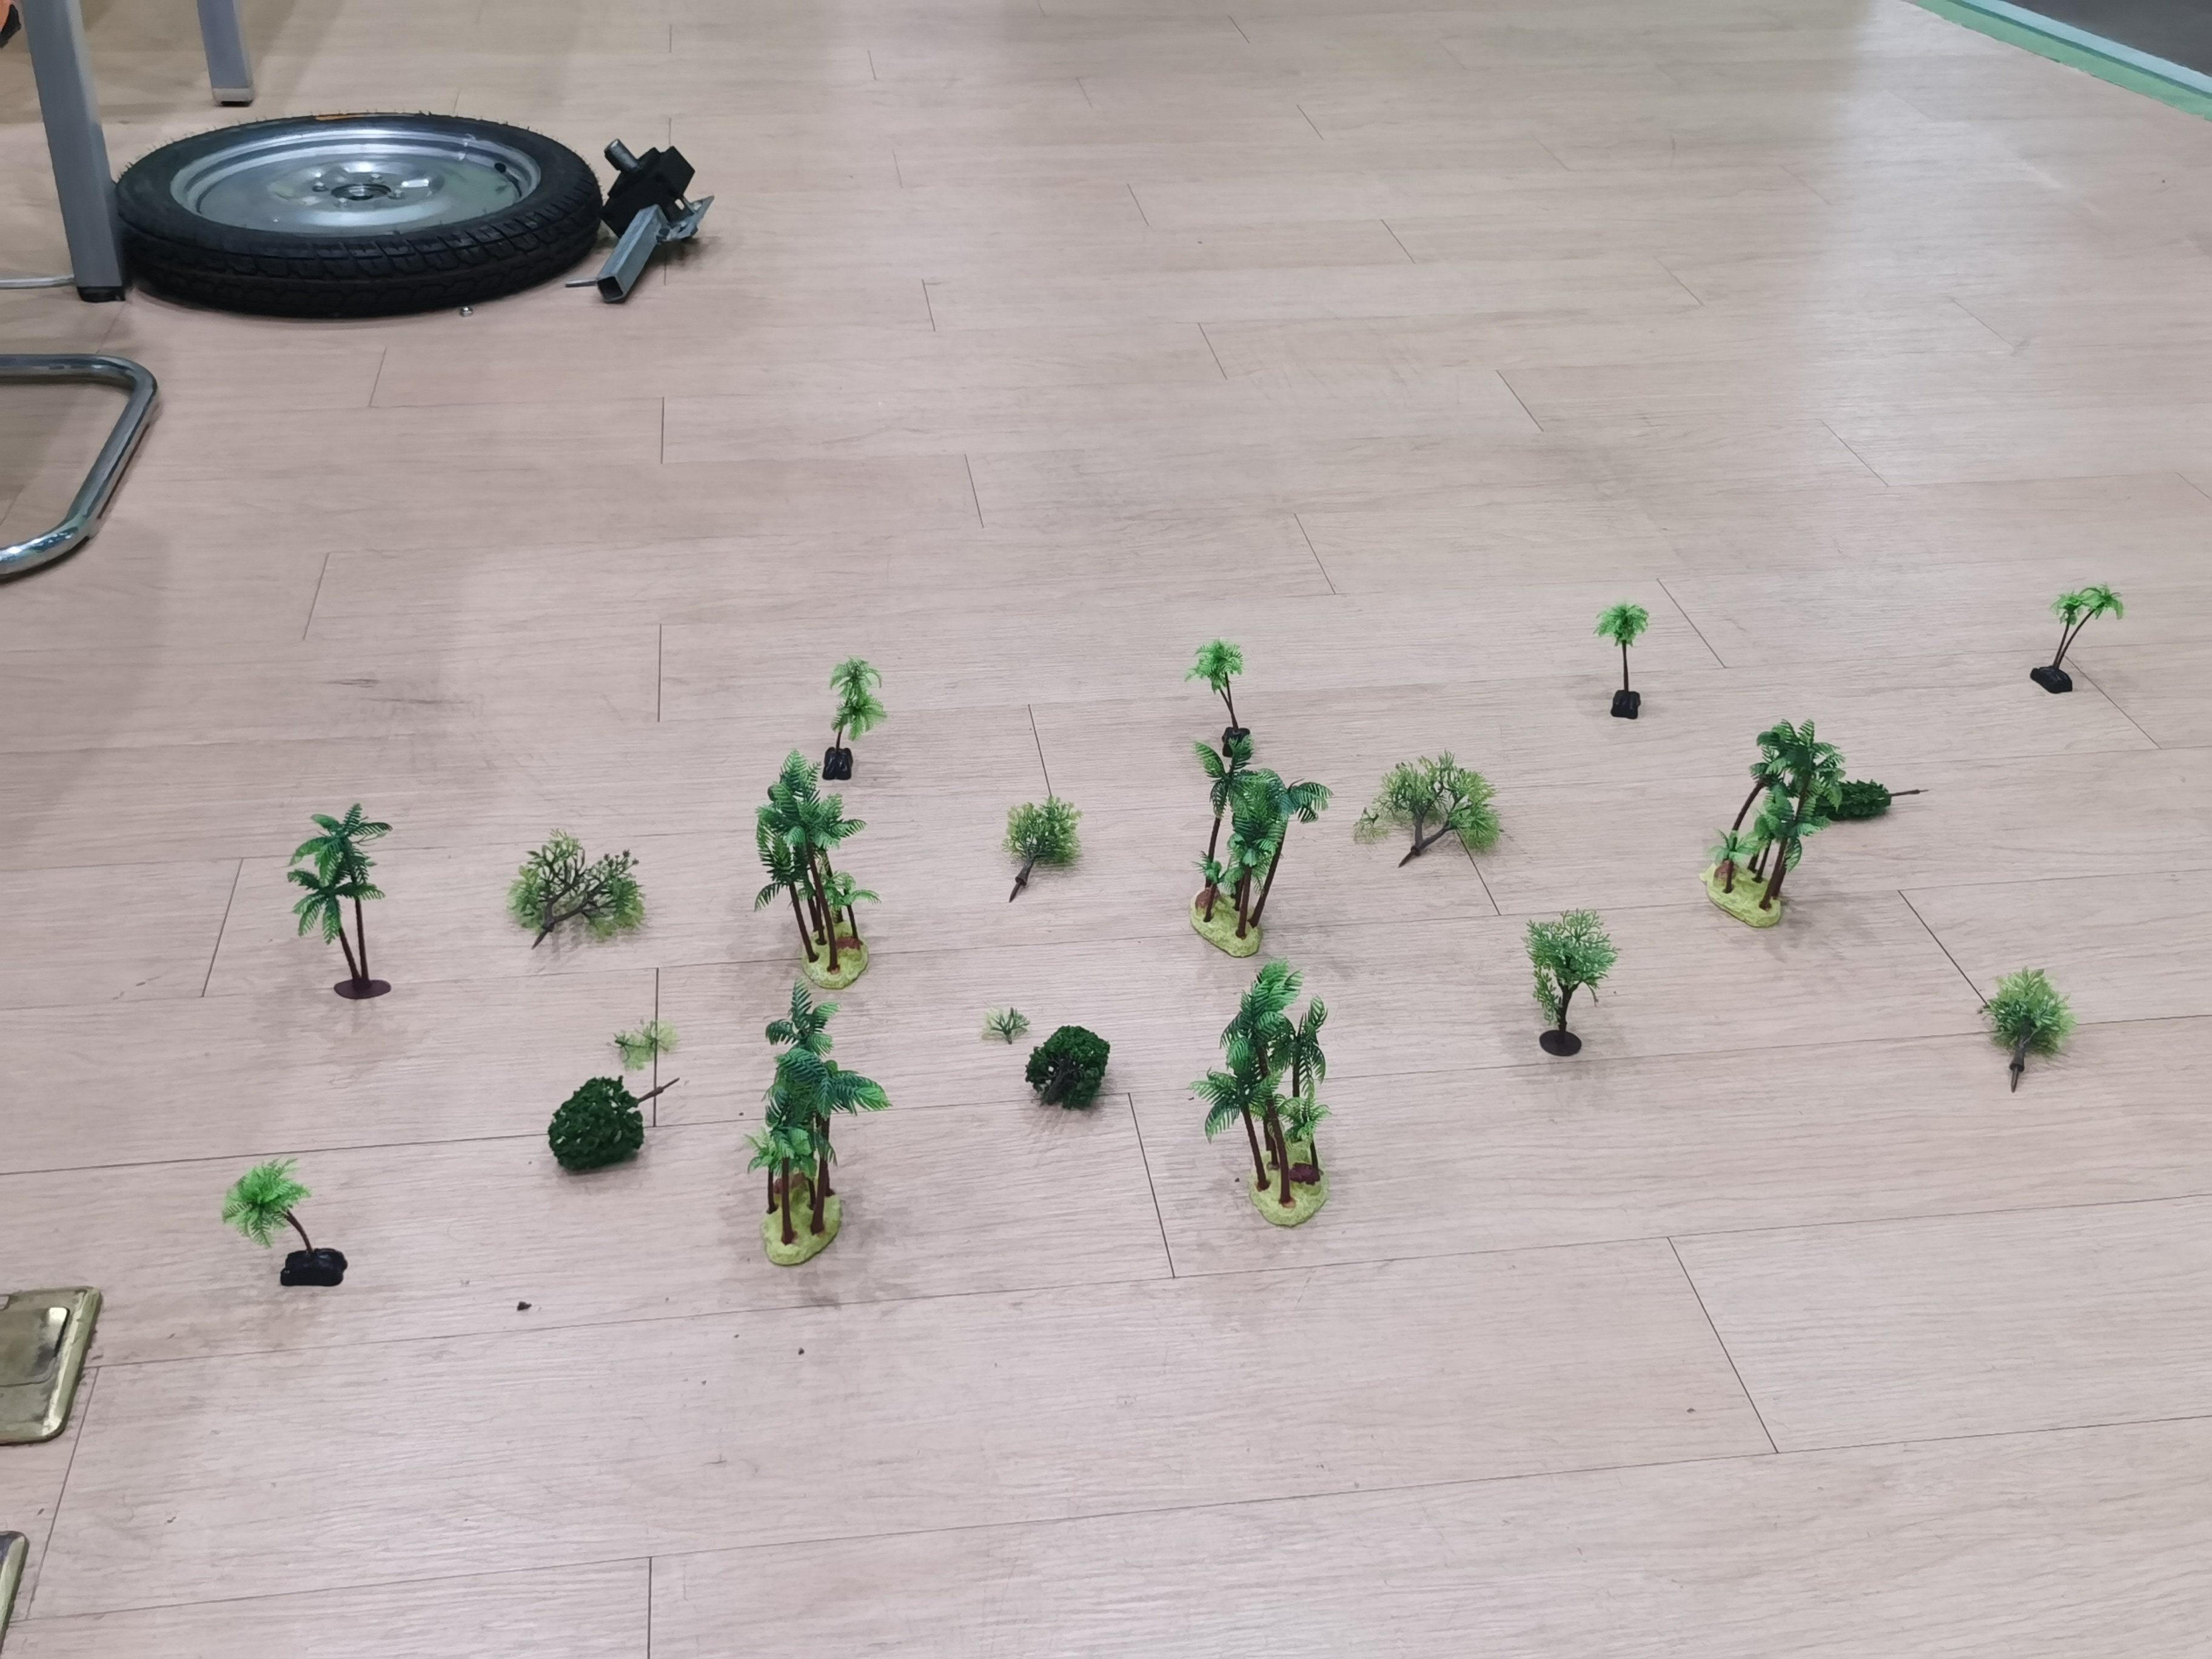corn: (1183, 962, 1345, 1225), (723, 990, 873, 1269), (738, 765, 900, 997), (1146, 755, 1315, 955), (1695, 720, 1853, 925), (268, 802, 394, 995), (211, 1152, 350, 1293), (2024, 570, 2123, 704), (796, 667, 881, 784), (1590, 598, 1669, 720), (1188, 648, 1264, 760)
